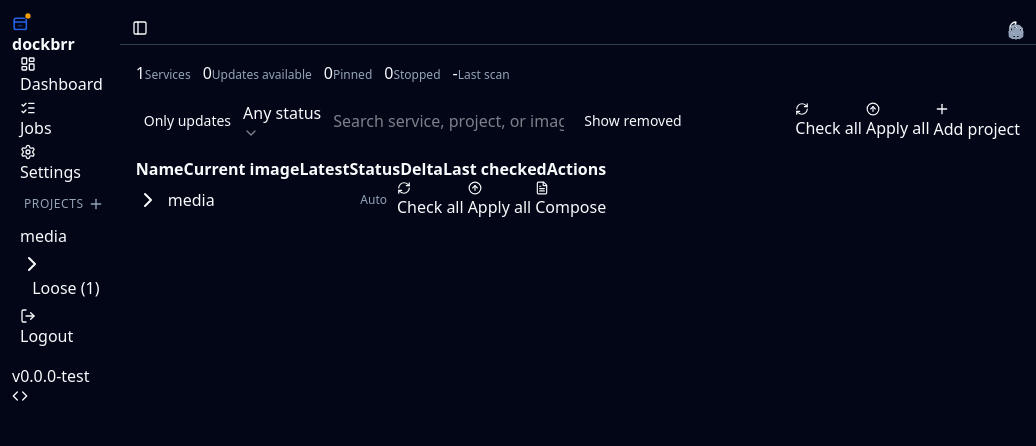
Test: Sidebar › groups auto-named projects under a collapsed Loose section
Expected: the link with aria-label "media," is shown, [20,225,67,247]
Click the button "Loose (1)".
click(66, 276)  # box [20,252,112,300]
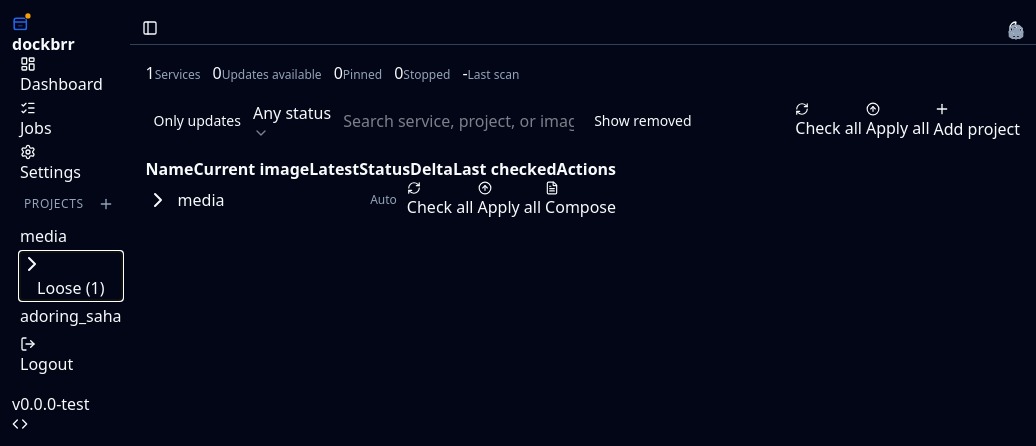
Expected: the link with aria-label "adoring_saha," is shown, [20,305,122,327]
